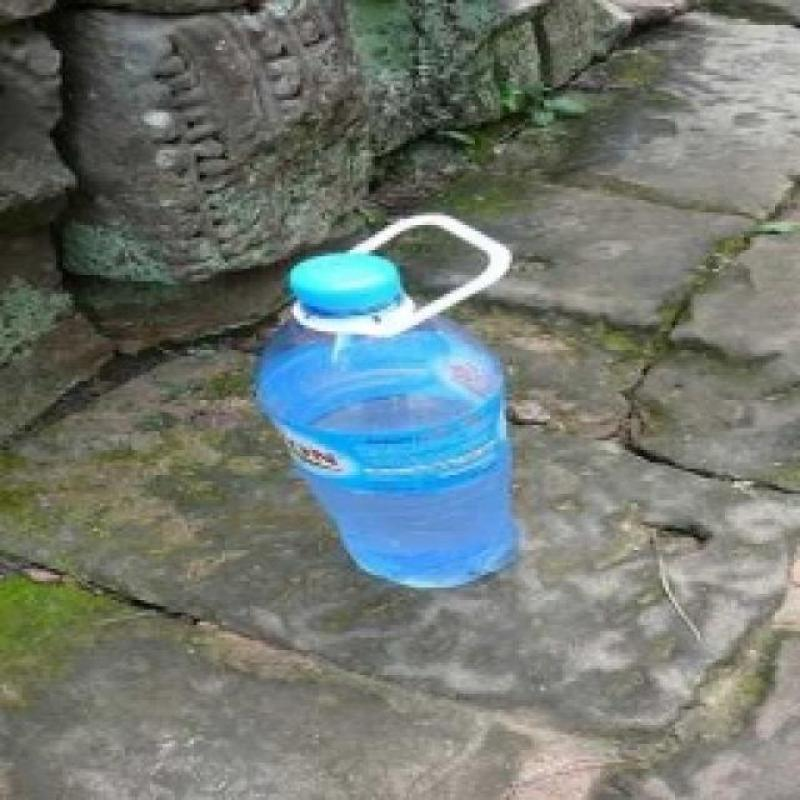botella: (250, 252, 525, 596)
